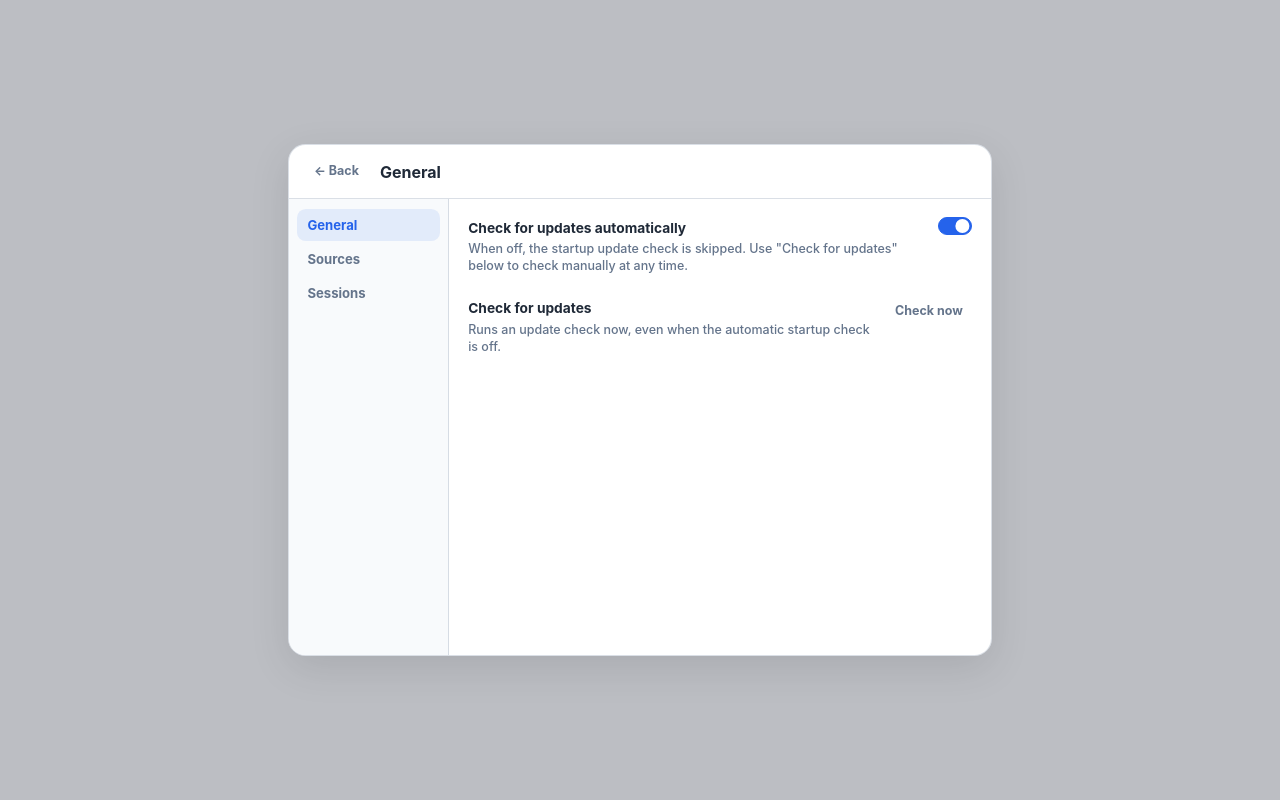
Test: SettingsPage › inserts a variable at the caret when its chip is clicked
Click the button "Sessions" at (368, 294), box [297, 278, 440, 310]
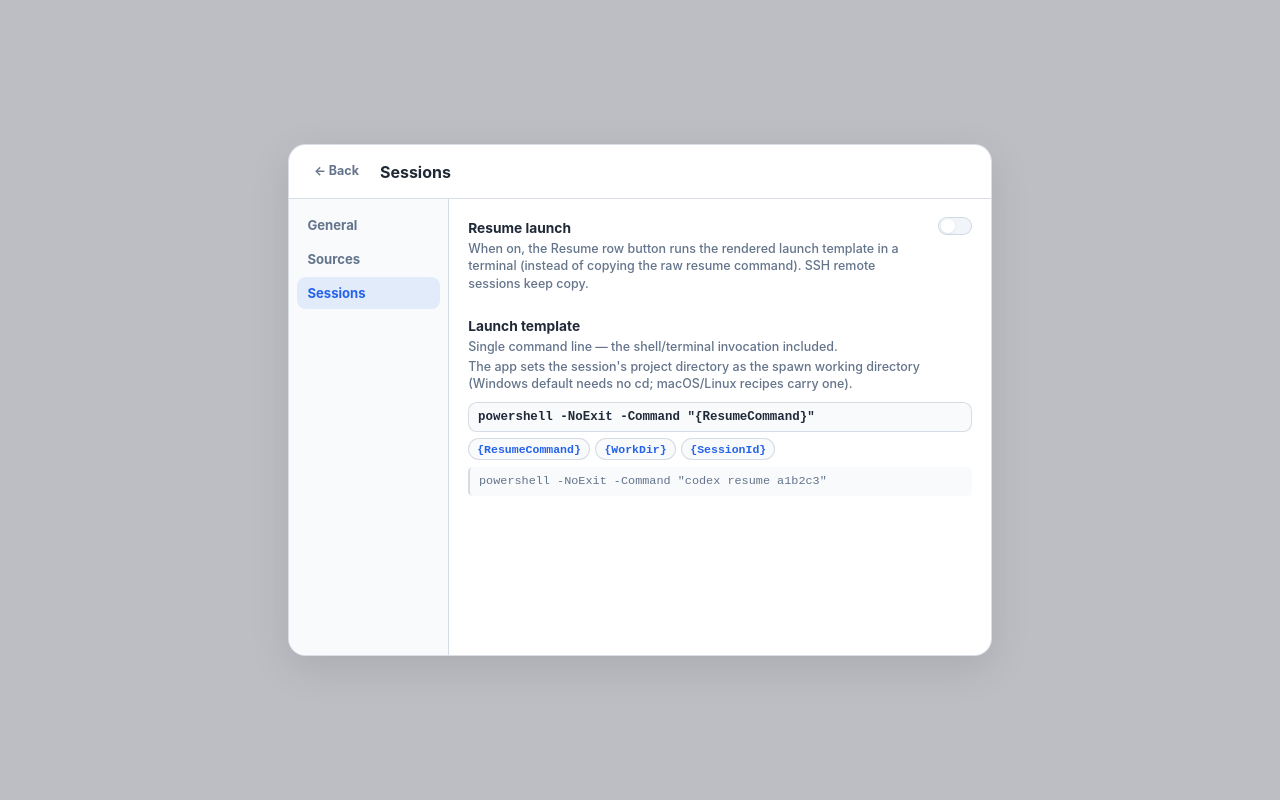
Type "cd " into the field labelled "Launch template" at (720, 417), box [468, 402, 972, 432]
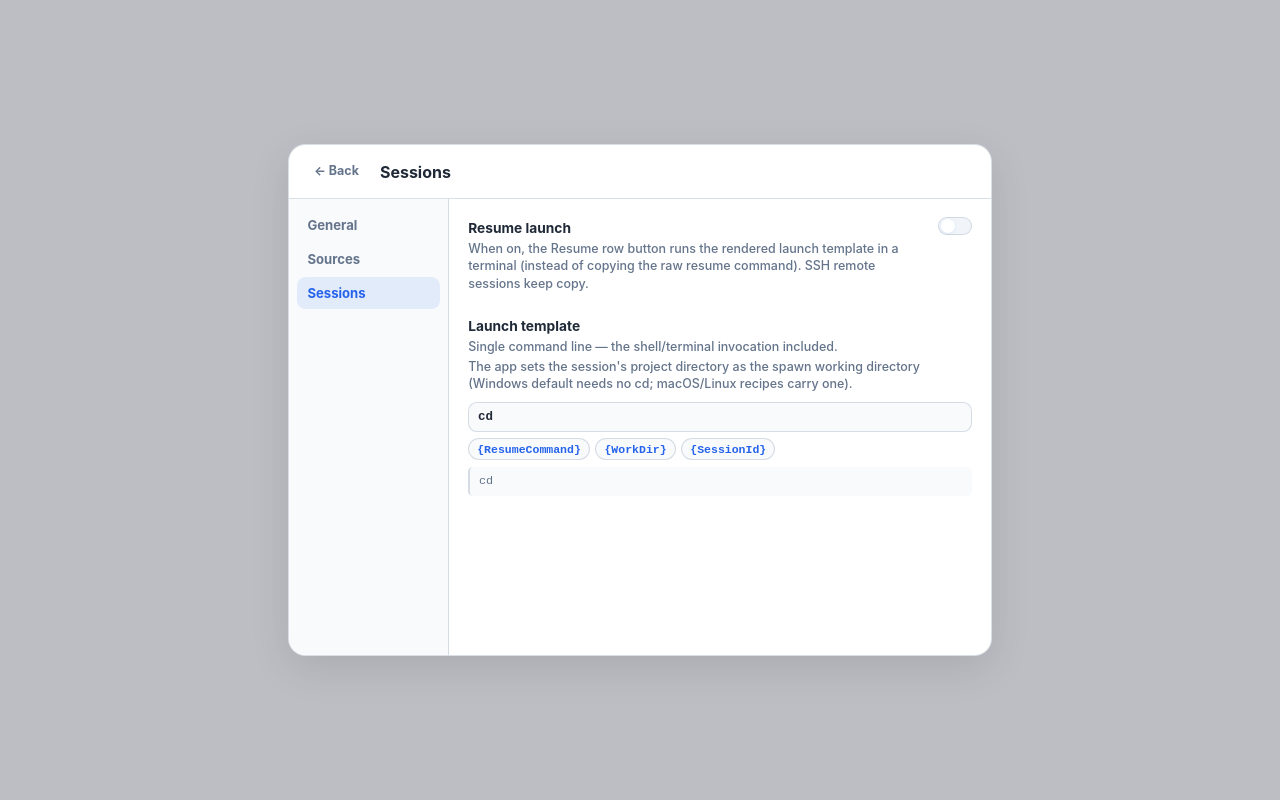
Click the button with aria-label "Insert {WorkDir}" at (636, 449), box [596, 438, 676, 460]
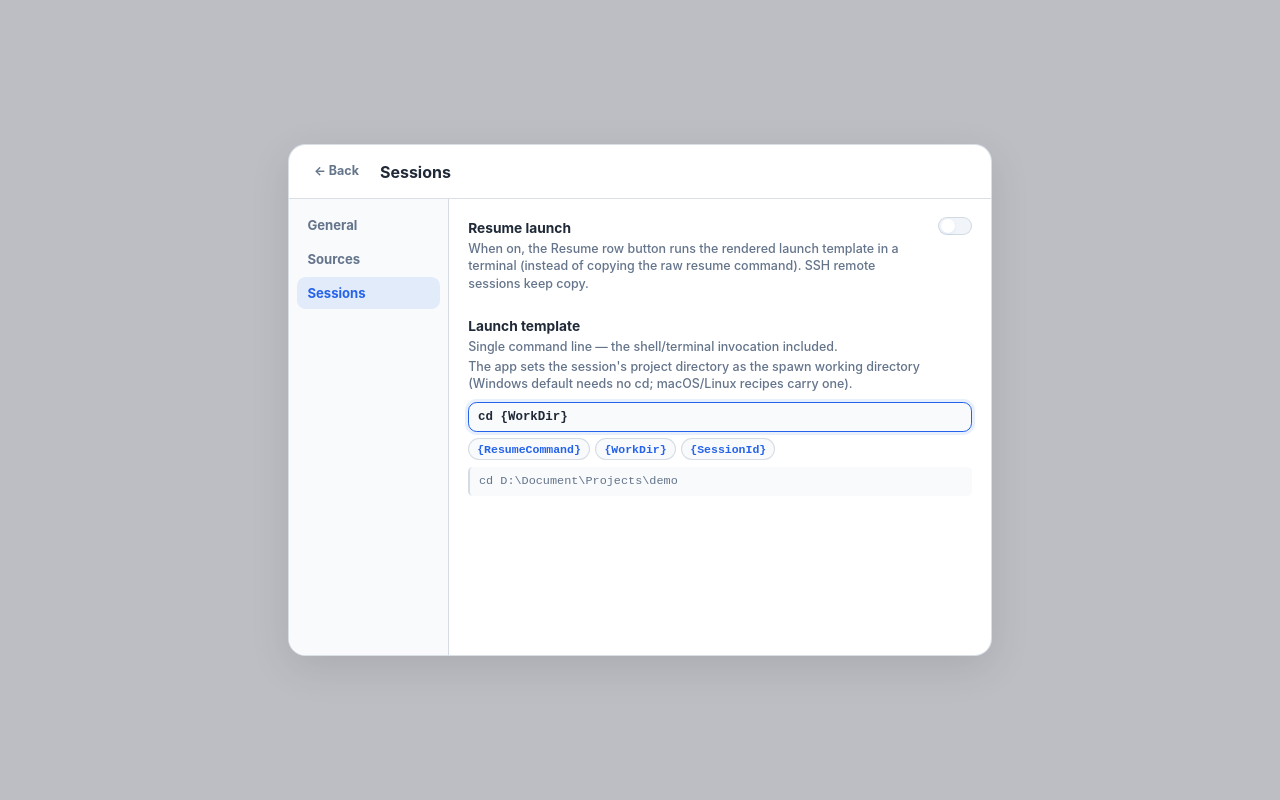
Expected: the field labelled "Launch template" holds "cd {WorkDir}", [468, 402, 972, 432]
